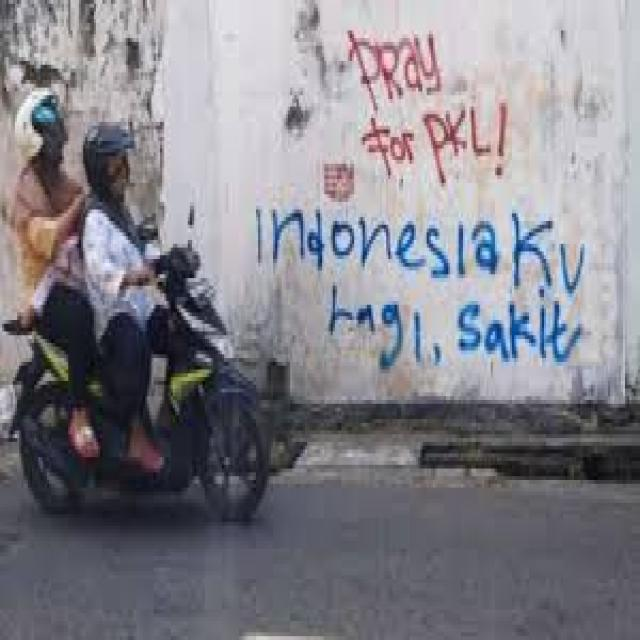-: (253, 208, 589, 366), (347, 29, 510, 194)
